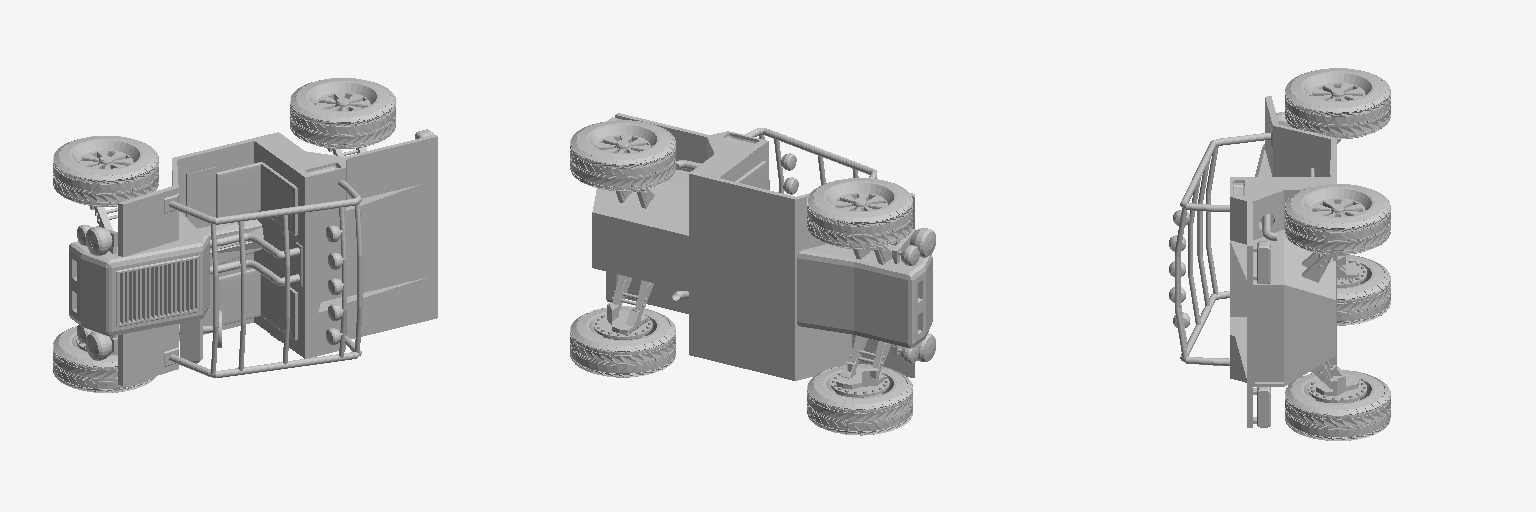
Rendered from buggy.obj.
The picture shows the model from 3 angles: view 1: azimuth 30°, elevation 25°; view 2: azimuth 150°, elevation 25°; view 3: azimuth 270°, elevation 25°; orthographic projection.
Parts seen in each view (by area): view 1: object; view 2: object; view 3: object.
Boxes of the visible parts, <box> form: object: <box>53,78,437,392</box>; object: <box>570,113,935,435</box>; object: <box>1169,68,1390,440</box>.
Bounding box in the file's own units: 5.45 × 3.43 × 3.13.